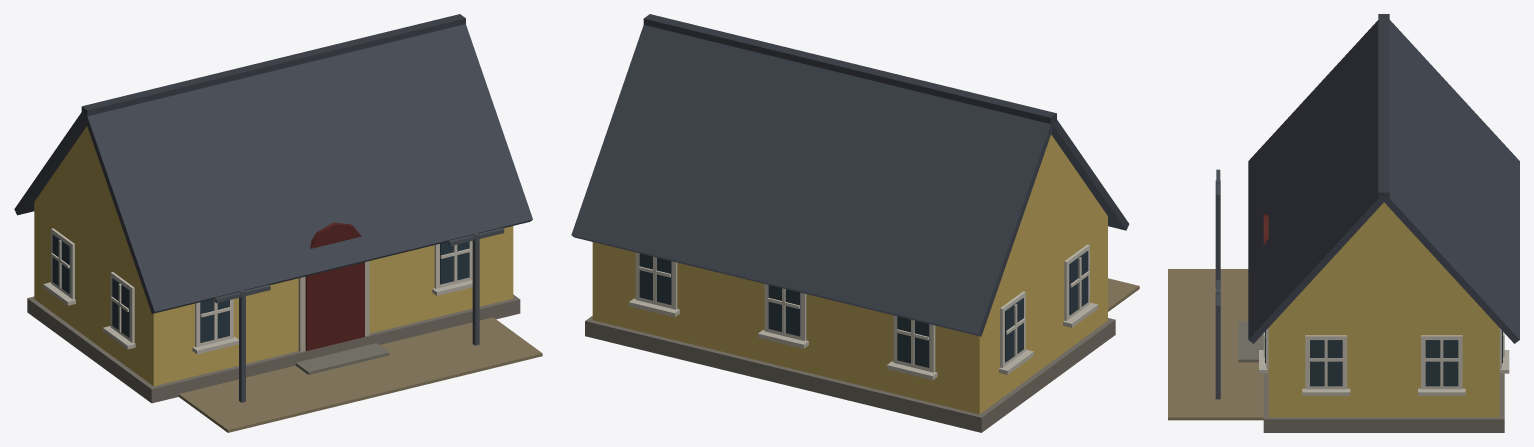
Rendered from procedural_school@4.glb.
3 views of the same model, side by side, from view 1: azimuth 30°, elevation 25°; view 2: azimuth 150°, elevation 25°; view 3: azimuth 270°, elevation 25° (orthographic). The views are drawn at different scales.
Visible parts, largest first — view 1: part_0; view 2: part_0; view 3: part_0.
Part boxes in pixels (box(x1,y1,x2,y2)): part_0: box(14, 14, 542, 432); part_0: box(571, 14, 1139, 432); part_0: box(1168, 14, 1519, 432).
Size of the model in its own units: 8.42 by 5.33 by 7.
